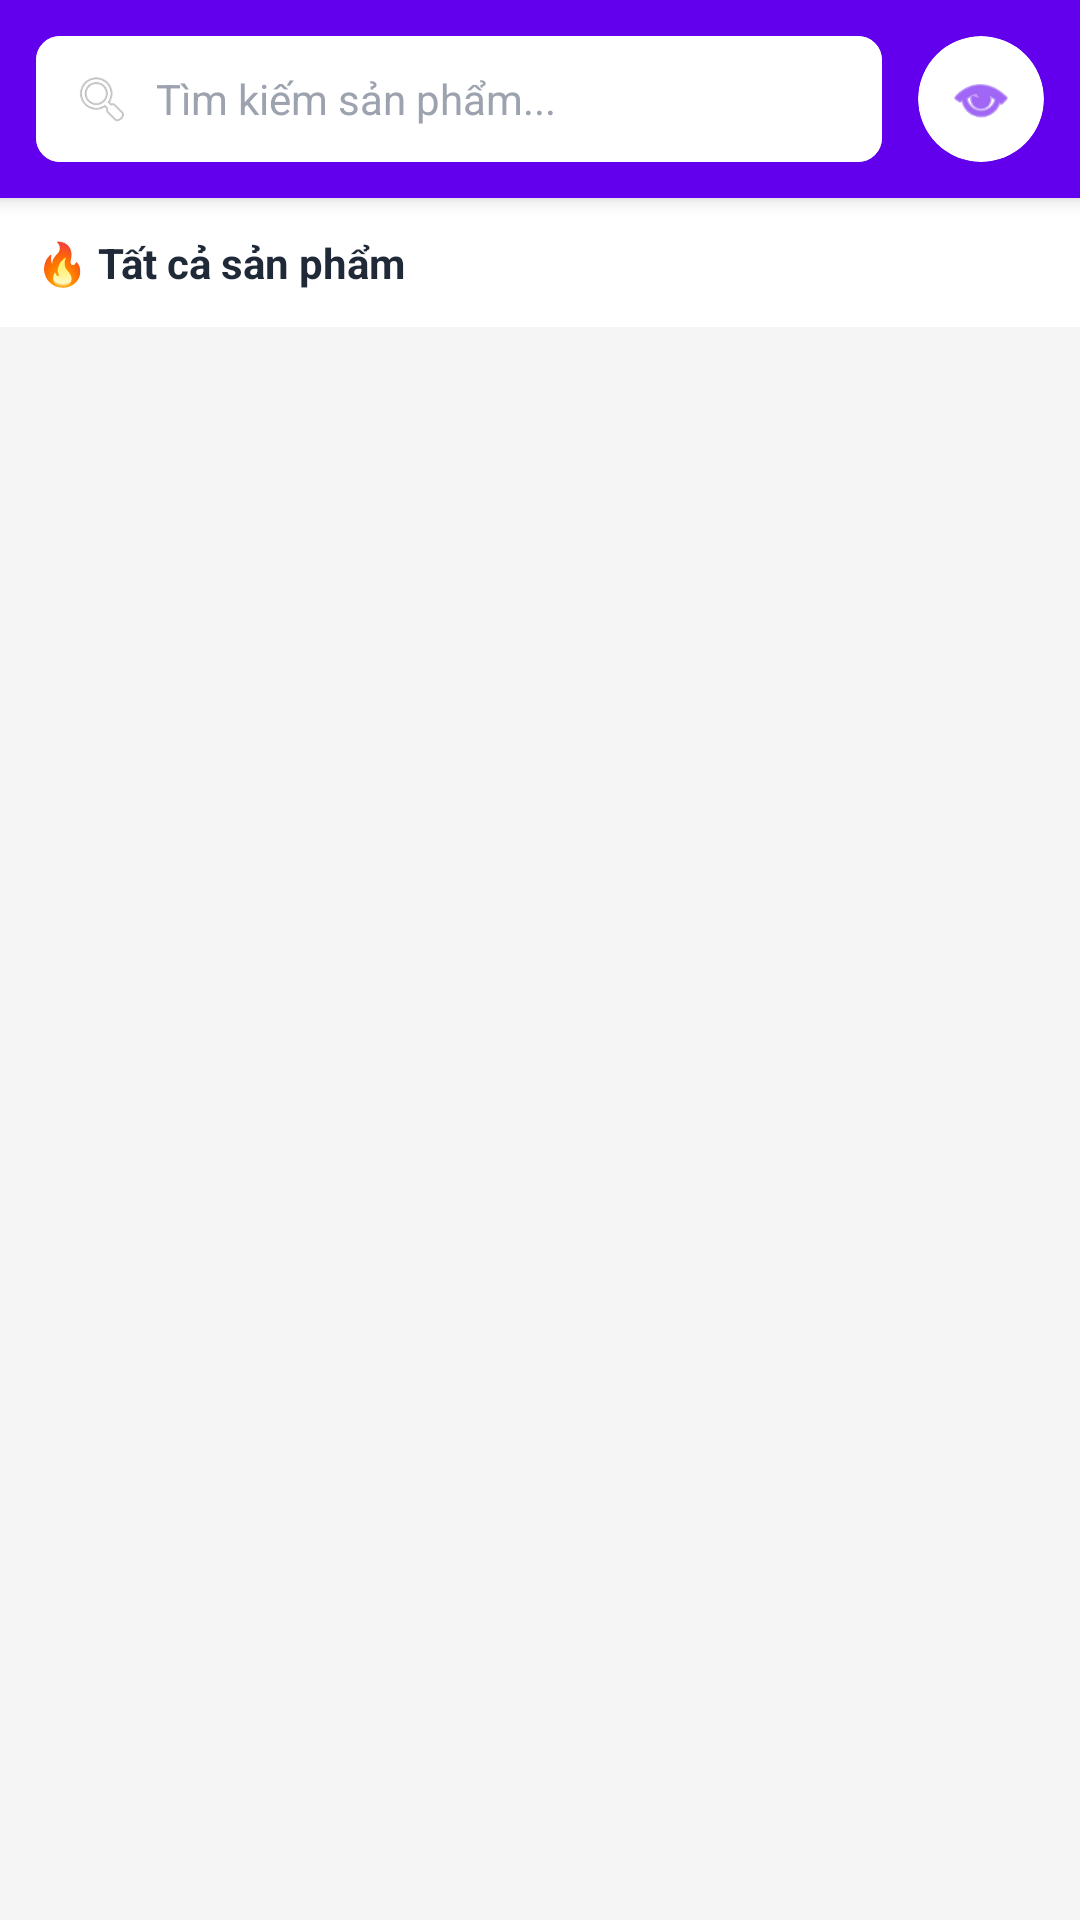

Named icons in this screenshot (1080w x 1920h) and their bounding boxes, [x1=x1, y1=y1, x2=x2, y2=y2]:
search icon: [x1=80, y1=77, x2=124, y2=121]
